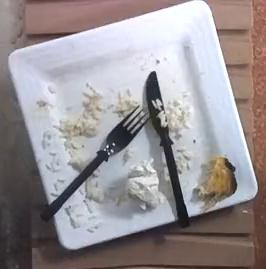pork: (191, 156, 237, 210)
rice: (59, 83, 104, 140), (165, 100, 192, 162)
